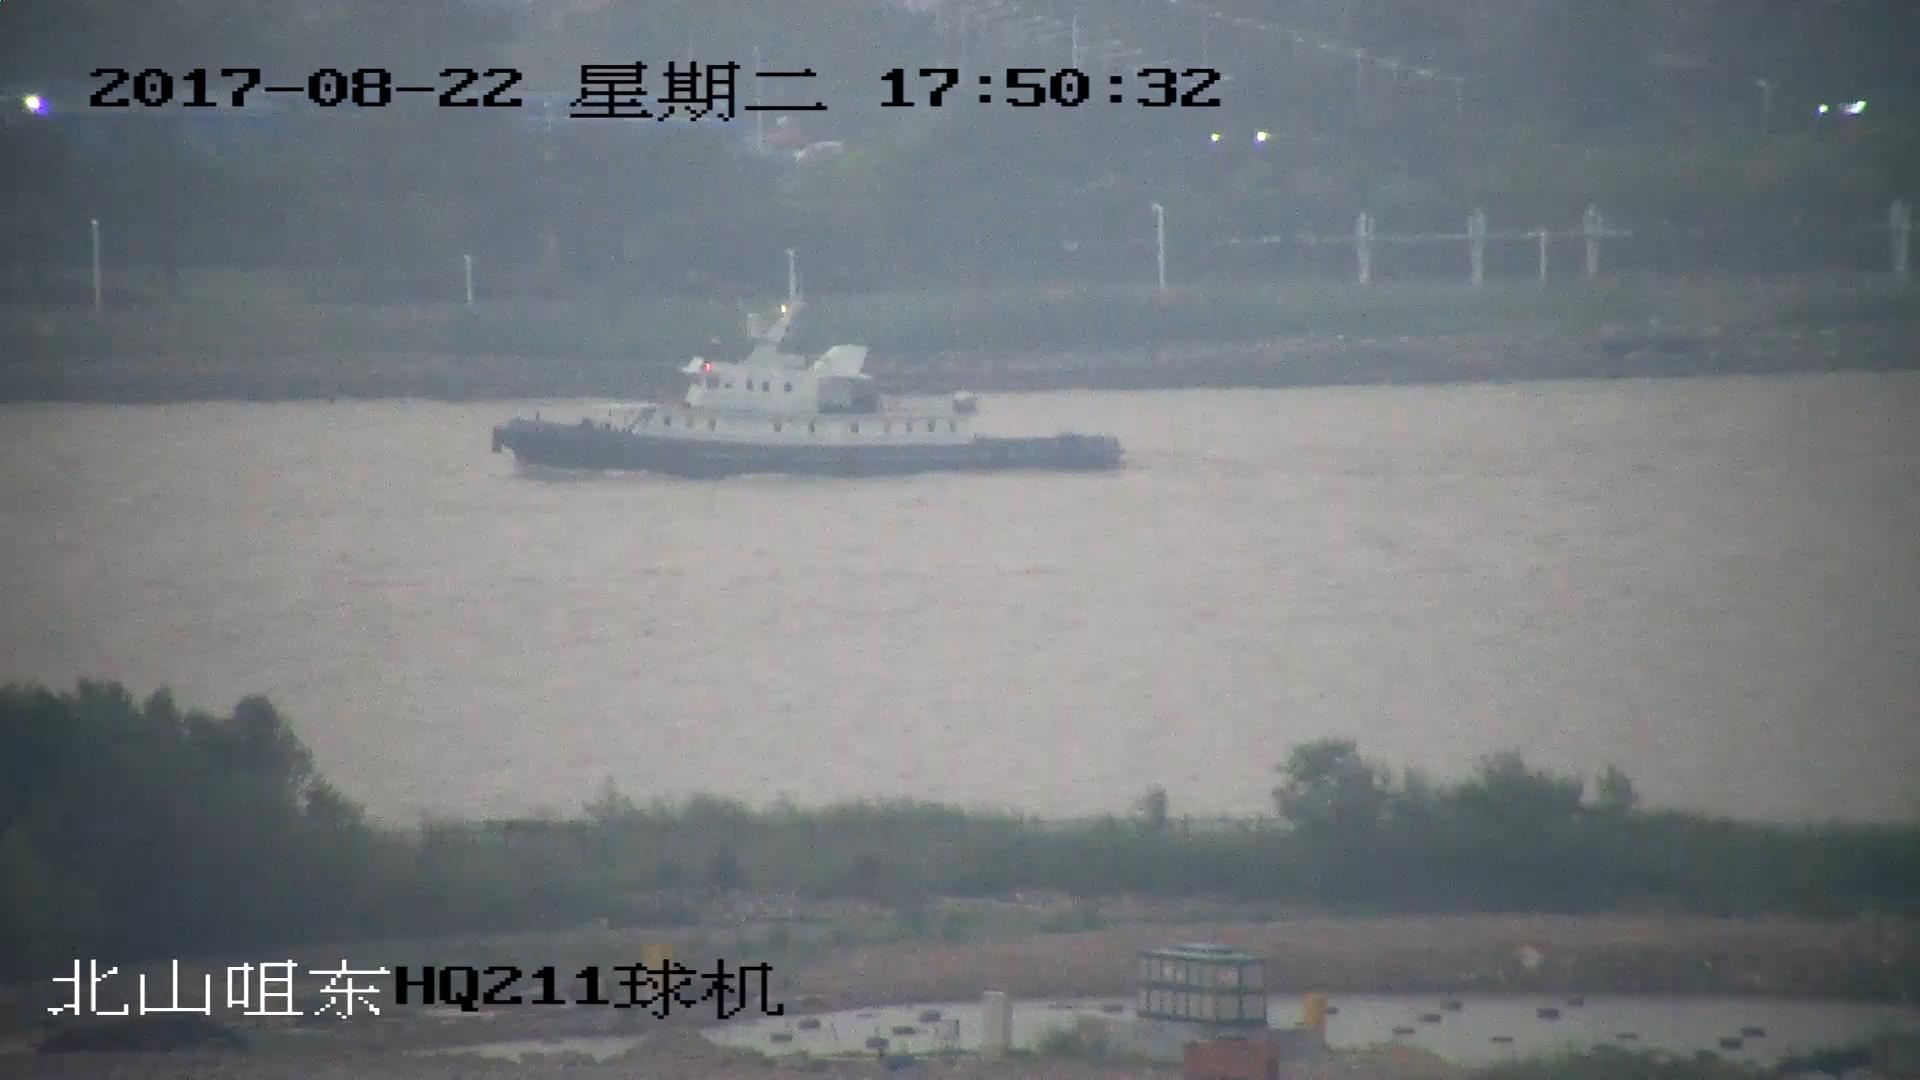passenger ship: (494, 273, 1122, 479)
